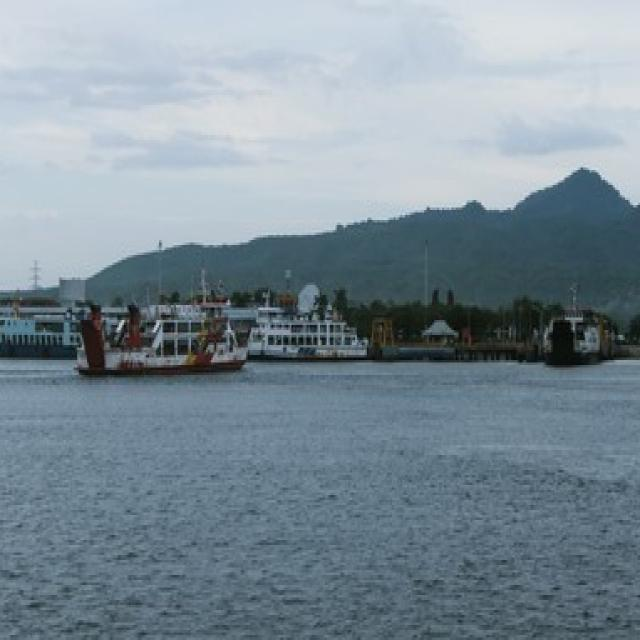passenger ship: (70, 285, 256, 411), (252, 271, 371, 366)
